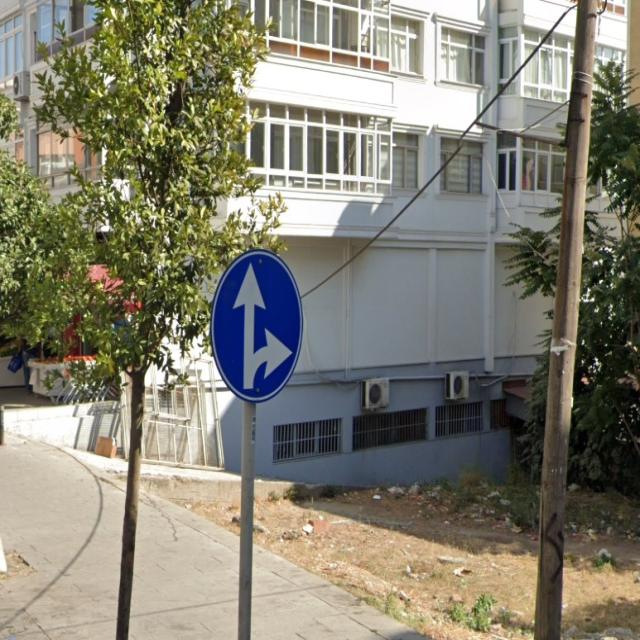ilerisag: (210, 251, 304, 403)
